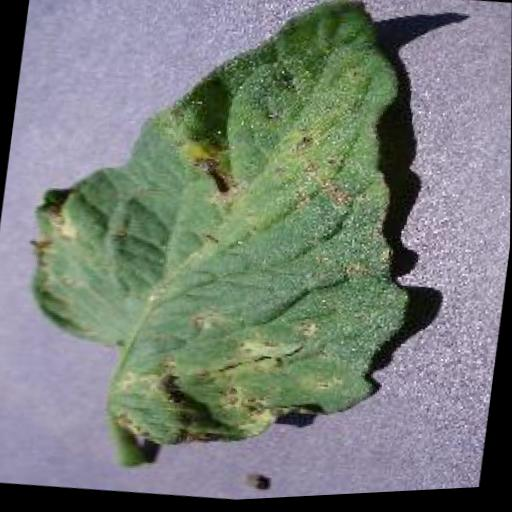Septoria: (4, 0, 450, 485)
